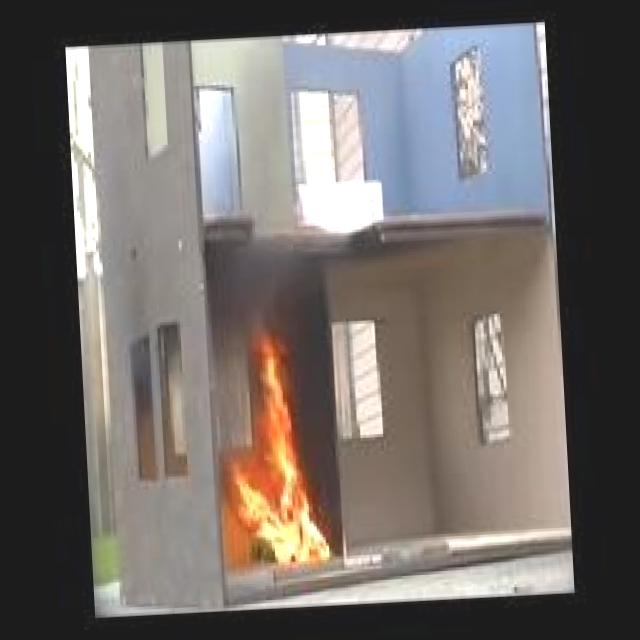fire: (214, 340, 326, 566)
